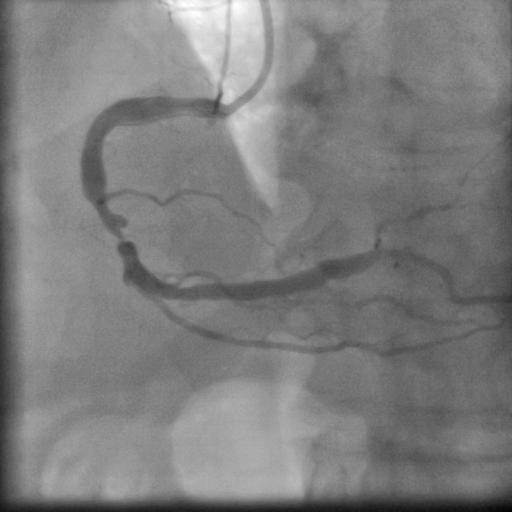Stenosis: (92, 206, 141, 255)
